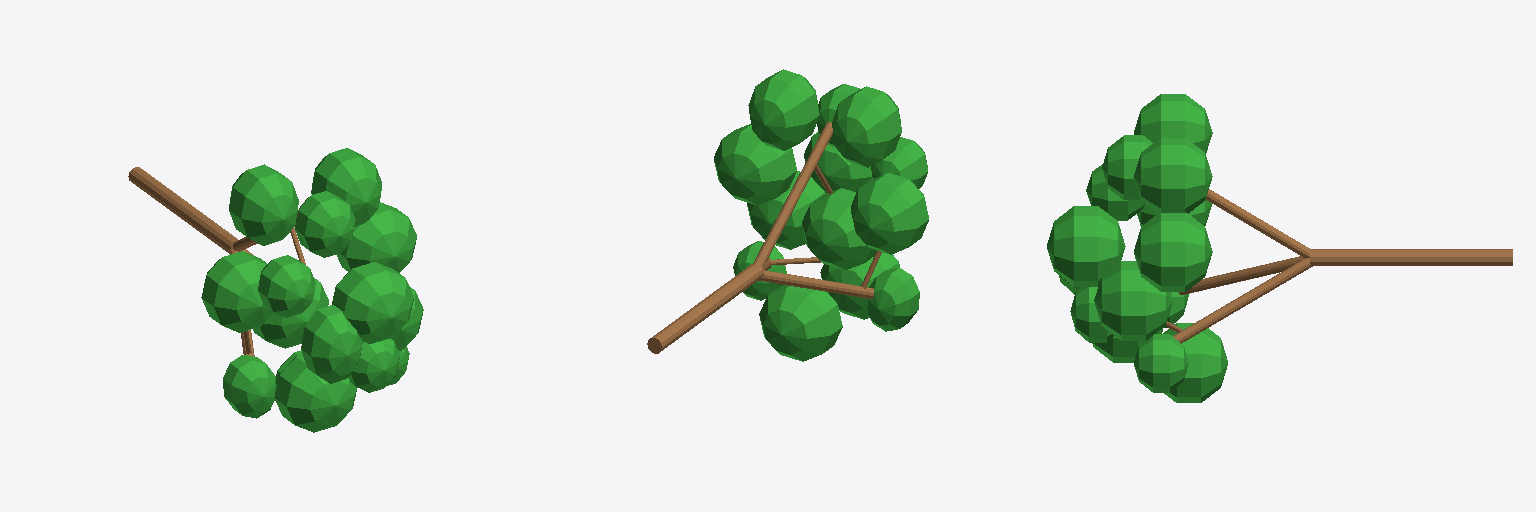
File: tree000.obj
3 views of the same model, side by side, from view 1: azimuth 30°, elevation 25°; view 2: azimuth 150°, elevation 25°; view 3: azimuth 270°, elevation 25° (orthographic).
Visible parts, largest first — view 1: obj_0.012; view 2: obj_0.012; view 3: obj_0.012.
Part boxes in pixels (bbox=[...]): obj_0.012: bbox=[128, 148, 423, 432]; obj_0.012: bbox=[647, 69, 928, 361]; obj_0.012: bbox=[1047, 94, 1512, 402].
Bounding box in the file's own units: 14.86 × 18.92 × 29.5.